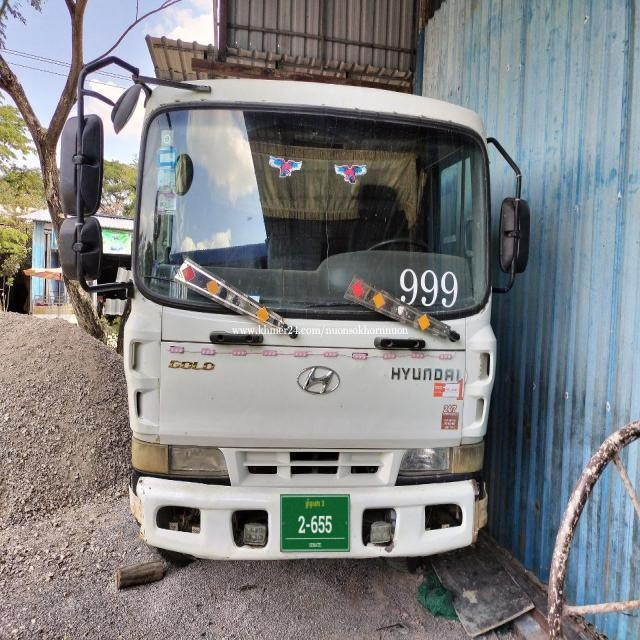Plate Number: (280, 494, 350, 552)
